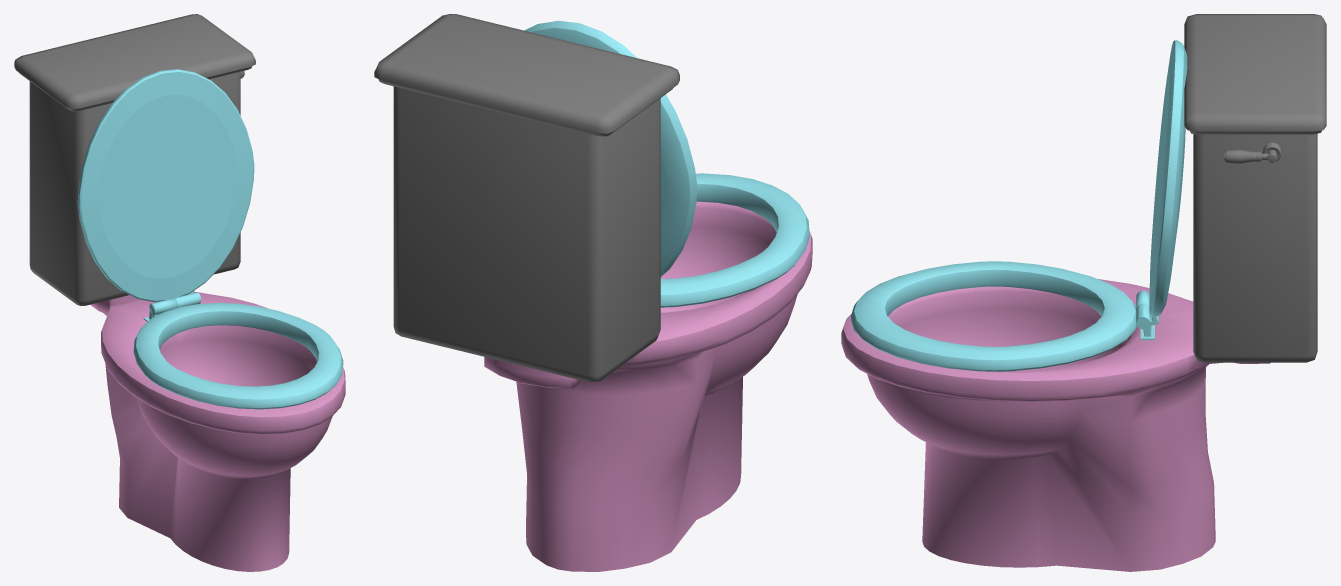
Rendered from Toliet.FBX.
3 views of the same model, side by side, from view 1: azimuth 30°, elevation 25°; view 2: azimuth 150°, elevation 25°; view 3: azimuth 270°, elevation 25° (orthographic). The views are drawn at different scales.
Parts seen in each view (by area): view 1: TolietBase_LP, TolietLidT_LP, TolietTank_LP, Toliettop_LP, TolietLidB_LP; view 2: TolietTank_LP, TolietBase_LP, Toliettop_LP, TolietLidB_LP, TolietLidT_LP; view 3: TolietBase_LP, TolietTank_LP, Toliettop_LP, TolietLidB_LP, TolietLidT_LP, TolietFlusher_LP.
Boxes of the visible parts, bbox=[...] form: TolietBase_LP: bbox=[90, 291, 345, 571]; TolietLidT_LP: bbox=[77, 69, 254, 302]; TolietTank_LP: bbox=[29, 71, 240, 305]; Toliettop_LP: bbox=[14, 14, 255, 111]; TolietLidB_LP: bbox=[133, 292, 343, 409]; TolietTank_LP: bbox=[393, 86, 660, 382]; TolietBase_LP: bbox=[484, 201, 812, 571]; Toliettop_LP: bbox=[374, 14, 679, 136]; TolietLidB_LP: bbox=[660, 173, 809, 307]; TolietLidT_LP: bbox=[524, 20, 696, 276]; TolietBase_LP: bbox=[841, 279, 1270, 571]; TolietTank_LP: bbox=[1193, 133, 1317, 362]; Toliettop_LP: bbox=[1184, 14, 1326, 134]; TolietLidB_LP: bbox=[851, 261, 1154, 371]; TolietLidT_LP: bbox=[1149, 40, 1187, 325]; TolietFlusher_LP: bbox=[1224, 142, 1281, 163].
Bounding box in the file's own units: 47.51 × 96.13 × 85.73.
